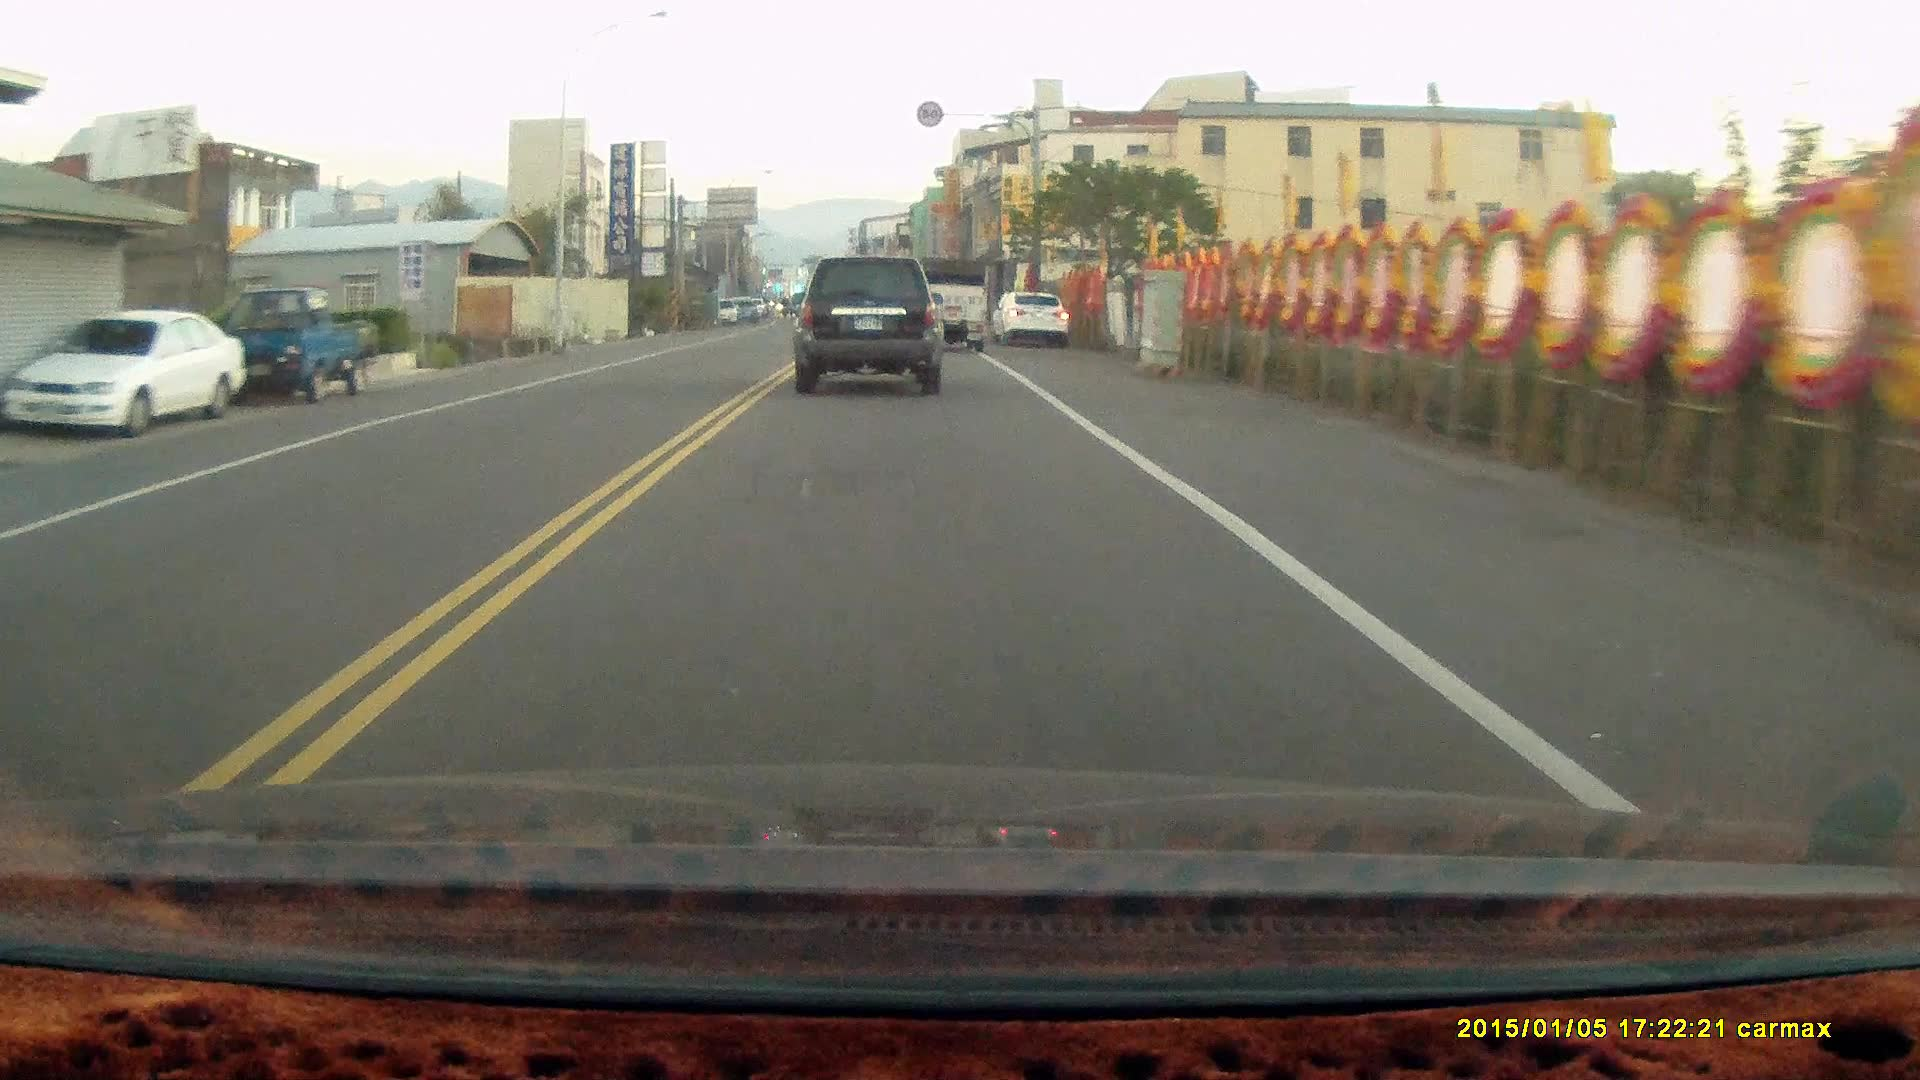vehicle: (5, 307, 243, 429), (207, 284, 382, 406), (795, 255, 945, 397), (914, 255, 992, 349), (1000, 286, 1071, 347)
